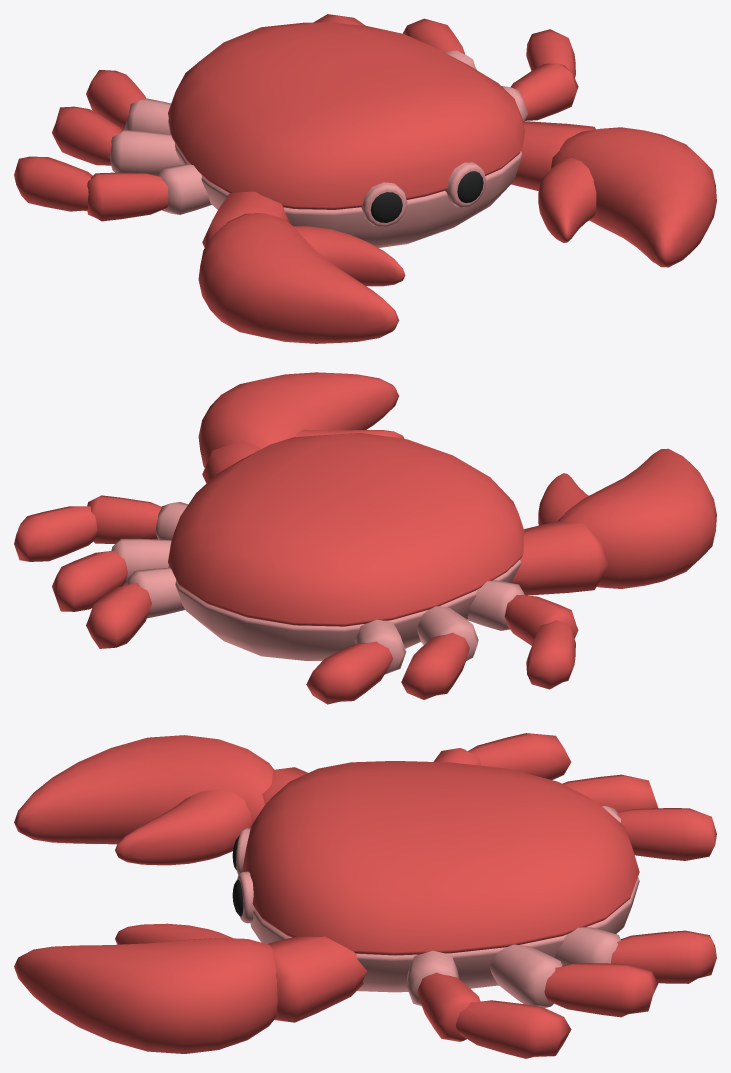
The model's file is Crab_1.fbx.
The picture shows the model from 3 angles, top to bottom: view 1: azimuth 30°, elevation 25°; view 2: azimuth 150°, elevation 25°; view 3: azimuth 270°, elevation 25°; orthographic projection. The views are drawn at different scales.
Parts seen in each view (by area): view 1: Crab_1; view 2: Crab_1; view 3: Crab_1.
Boxes of the visible parts, x1,y1,x2,y2 form: Crab_1: (14, 14, 716, 343); Crab_1: (14, 372, 716, 704); Crab_1: (14, 733, 716, 1058).
Size of the model in its own units: 40.66 by 9.78 by 40.71.
